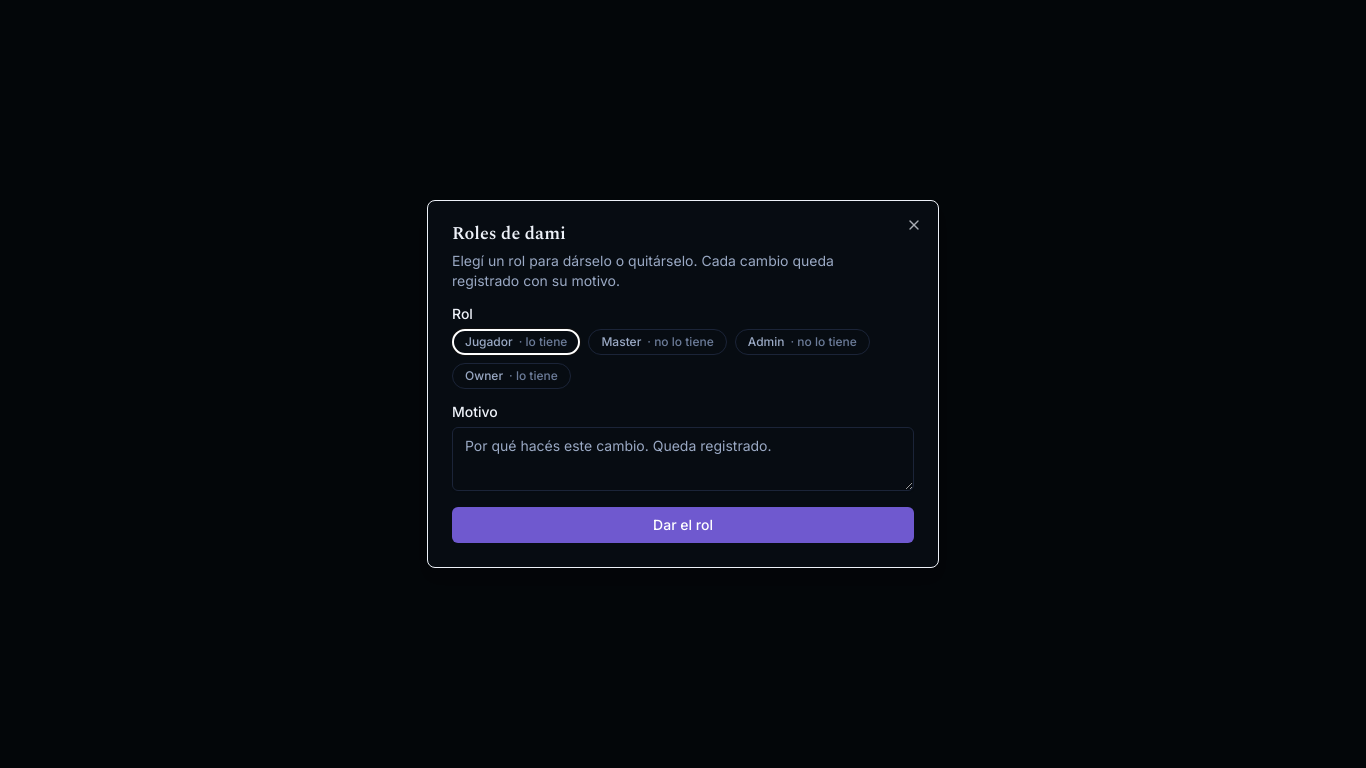
it: RoleChangeDialog › explains ROLE_GRANT_FORBIDDEN from its code
The image size is (1366, 768).
Click the button "Owner· lo tiene".
click(511, 376)  # box x1=452 y1=363 x2=571 y2=389
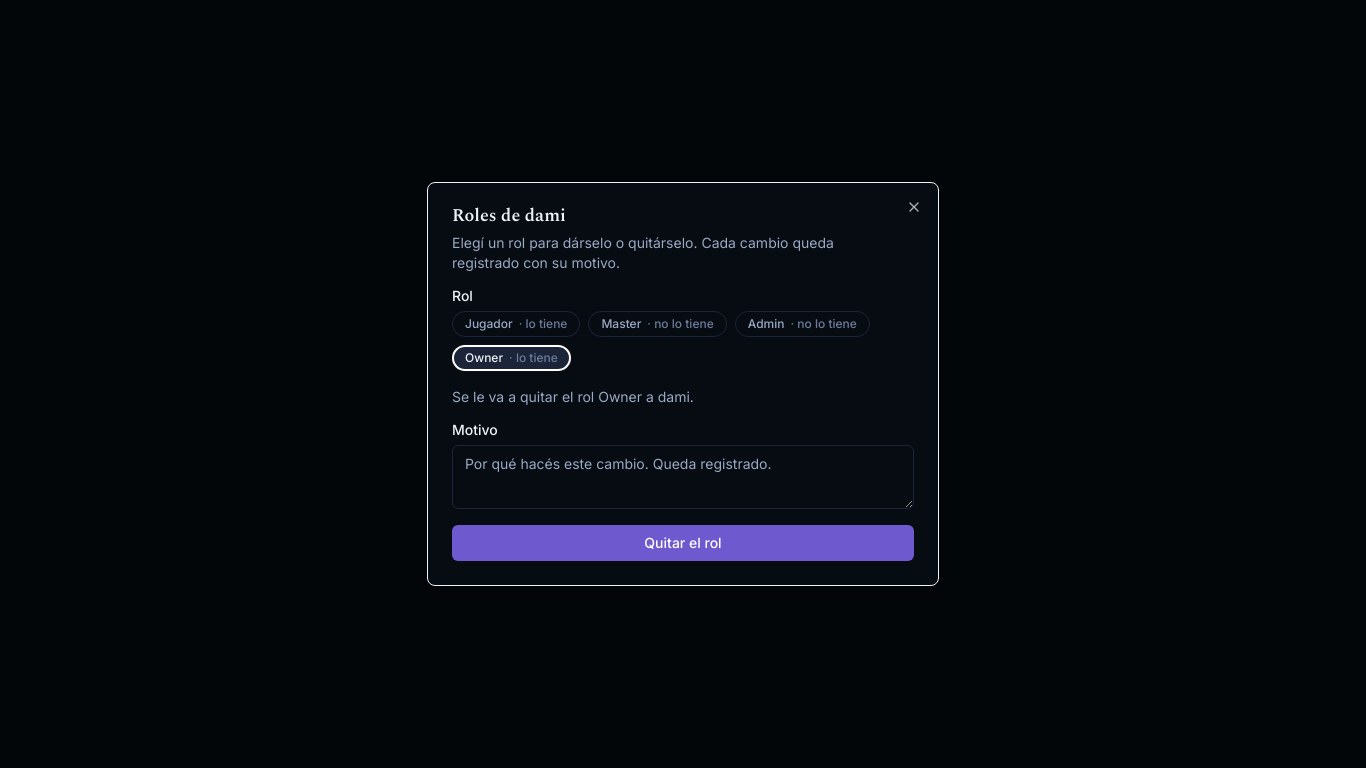
Type "Se va del proyecto" into the text box labelled "Motivo".
click(683, 477); type("Se va del proyecto")  # box x1=452 y1=445 x2=914 y2=509
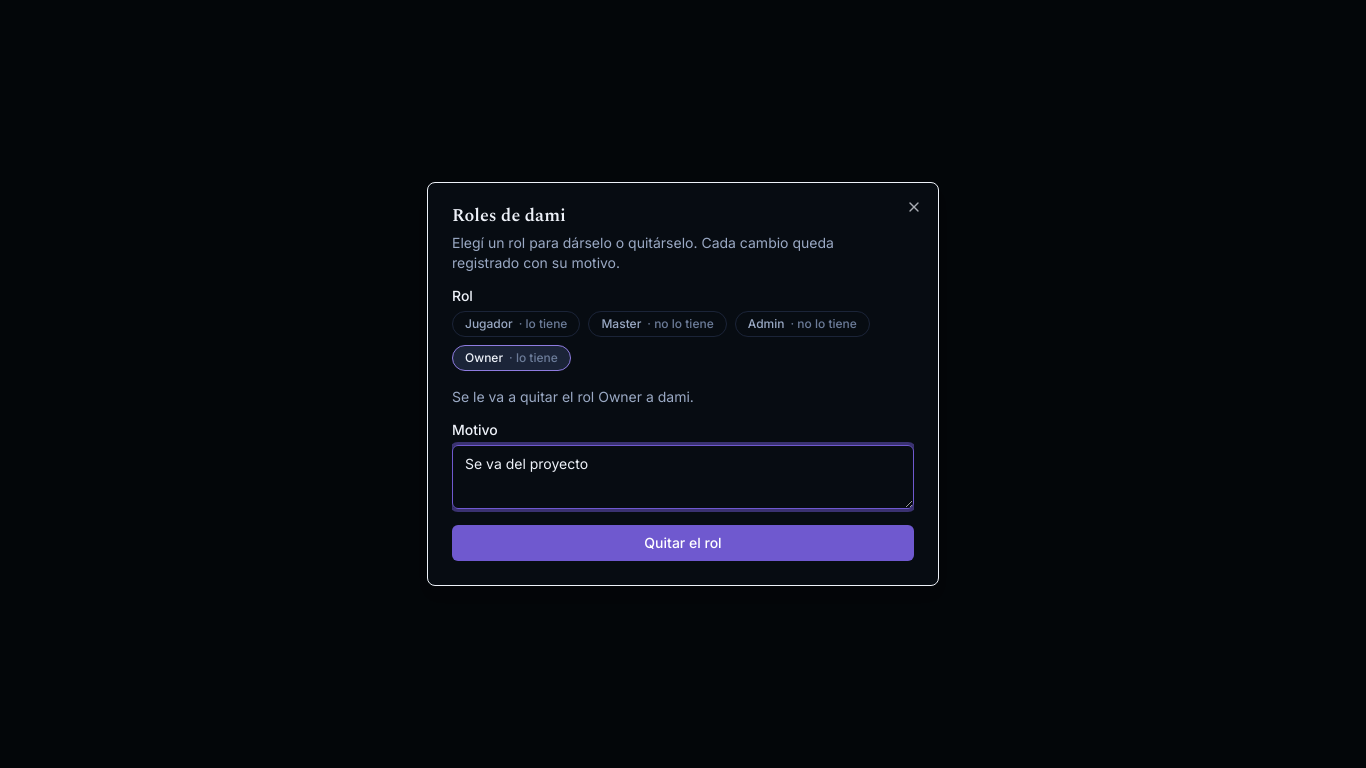
Click the button "Quitar el rol".
click(683, 543)  # box x1=452 y1=525 x2=914 y2=561
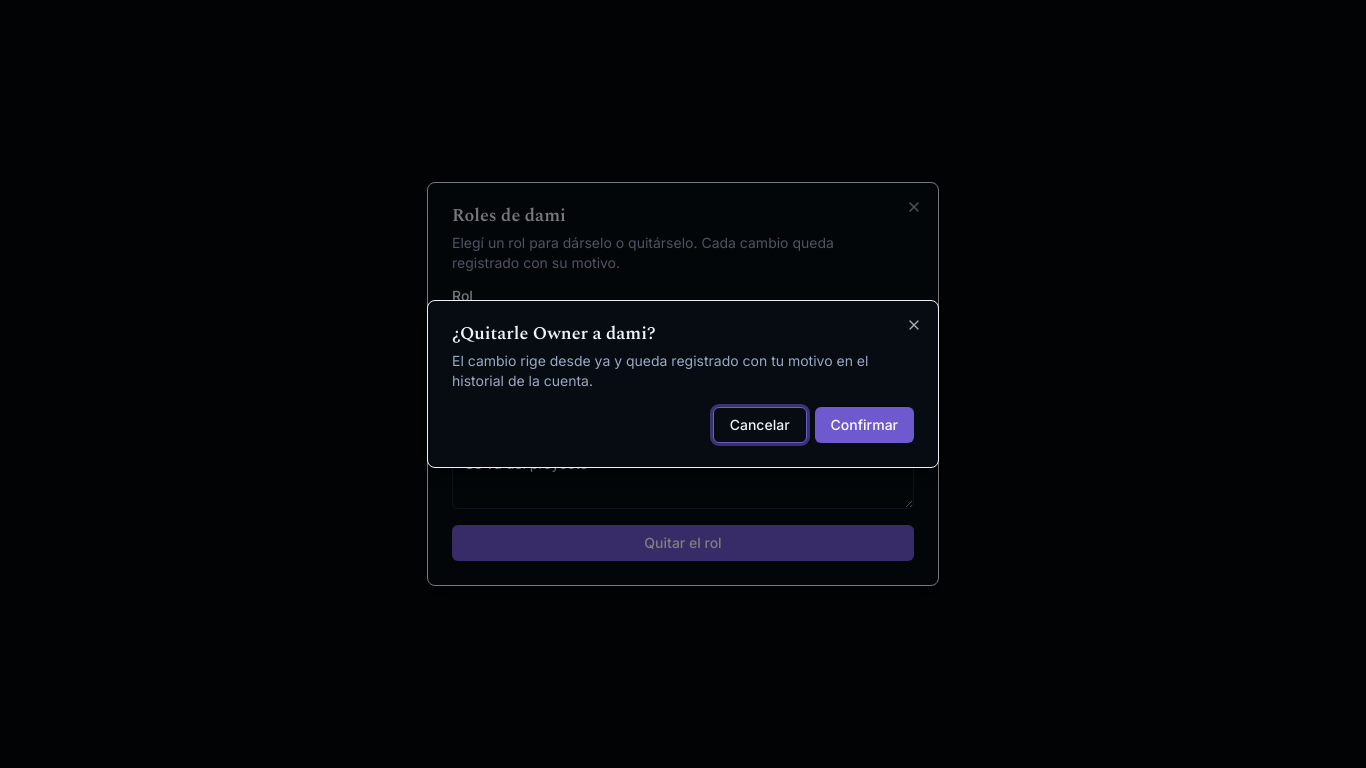
Click the button "Confirmar".
click(864, 425)  # box x1=815 y1=407 x2=914 y2=443
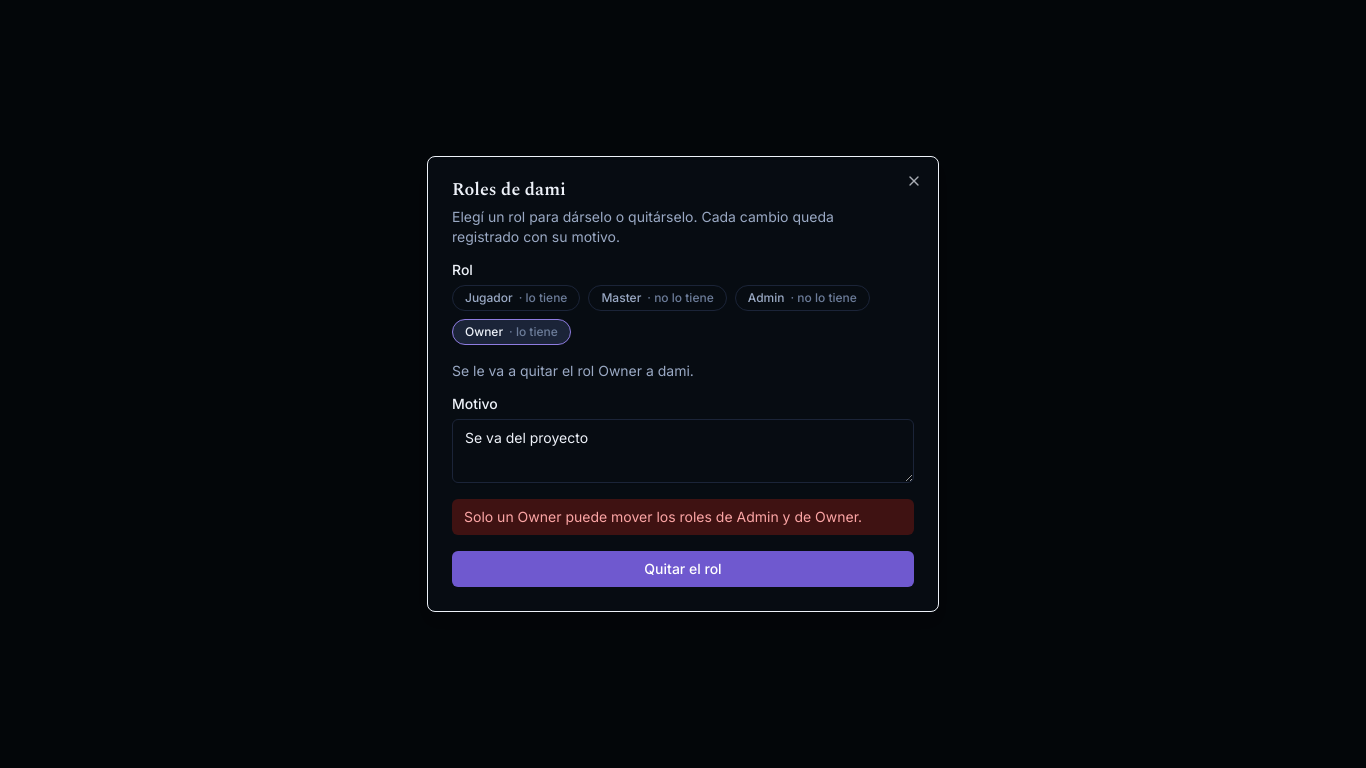
Expected: the message reads "Solo un Owner puede mover los roles de Admin y de Owner.", x1=464 y1=508 x2=862 y2=525
